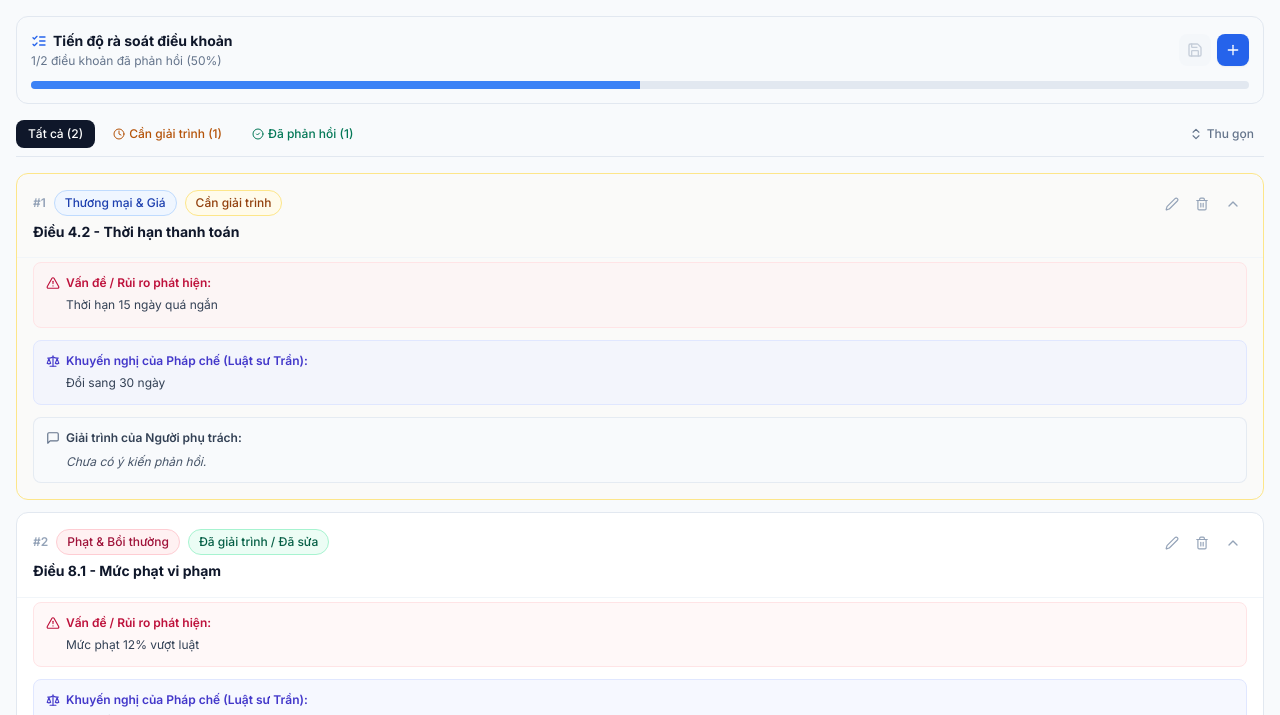
it: TaskMatrix Component › renders Collapse All button and toggles between "Thu gọn" and "Mở rộng"
The width and height of the screenshot is (1280, 715).
expect the text "Thu gọn" is shown: met, box [1207,126,1254,142]
What coordinates should you click on to do the following:
click the button with aria-label "Thu gọn tất cả"
I would click on:
 (1221, 134)
Its box is [1179,120,1264,148].
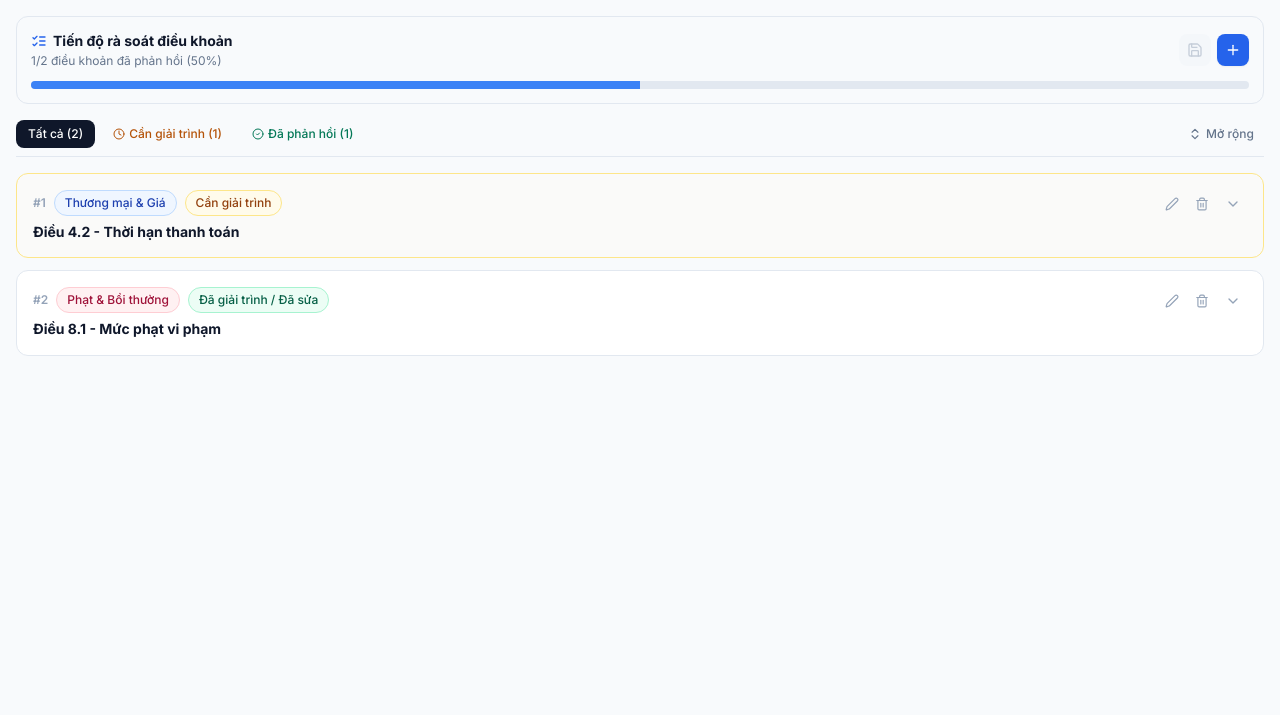
expect the text "Mở rộng" is shown: met, box [1206,126,1254,142]
